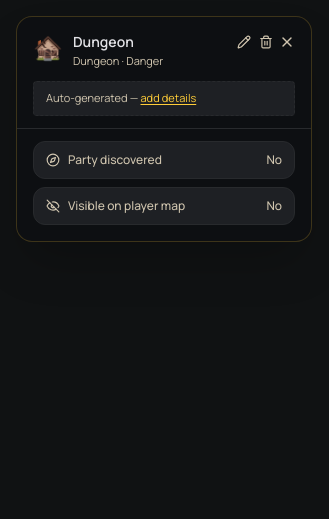
MapPoIInfoCard — auto-generated nudge › "add details" link opens edit form
Click the button "add details".
click(168, 98)  # box [140, 90, 196, 106]
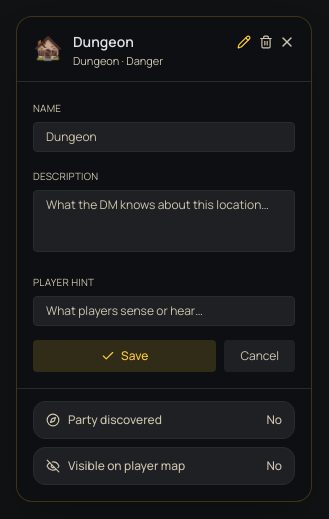
Result: the text box with placeholder "What the DM knows about this location…" is shown at [33, 190, 295, 252]
Result: the button "Save" is shown at [33, 340, 216, 372]
